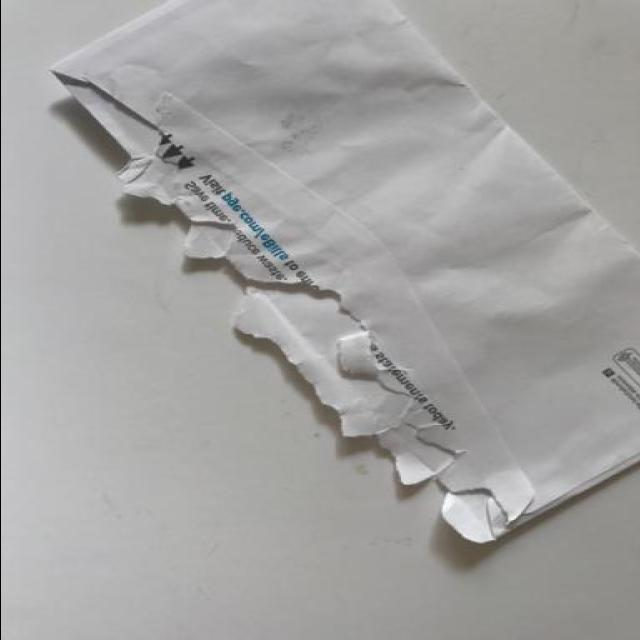non-organik: (35, 1, 640, 565)
